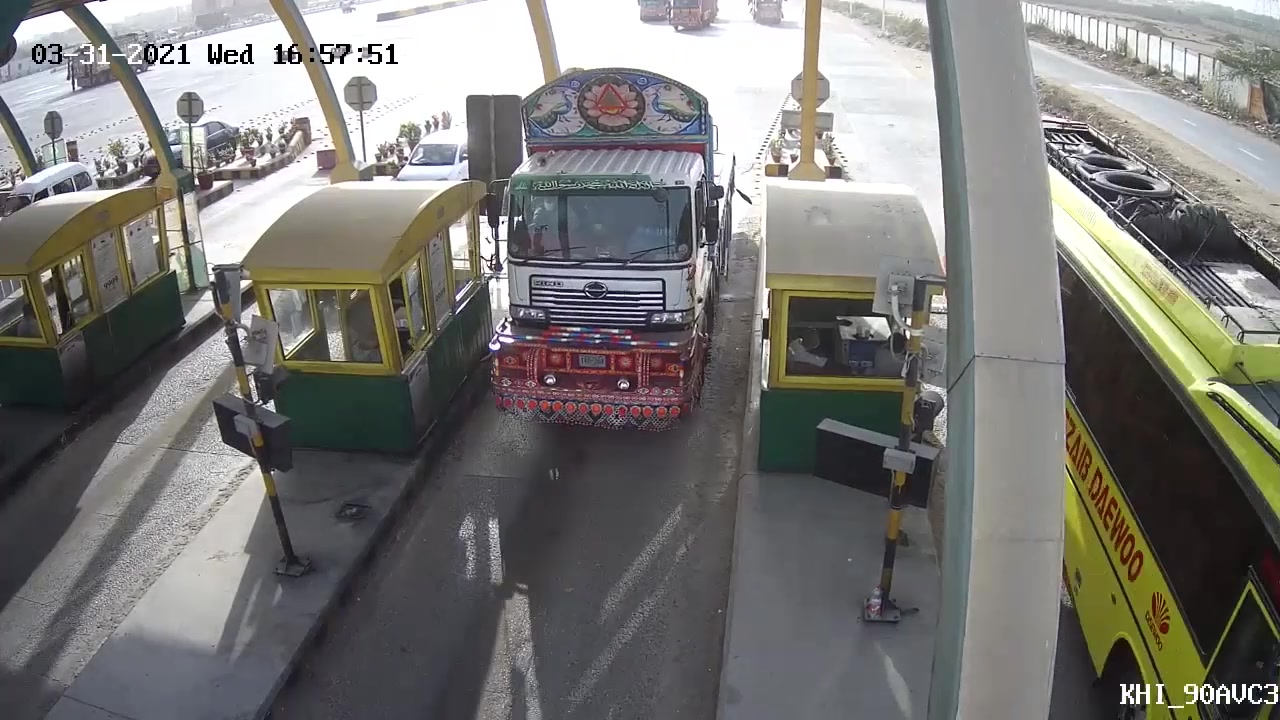F5: (474, 65, 742, 440)
